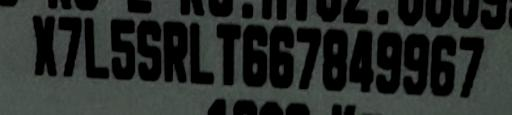letter: (456, 34, 488, 101), (347, 27, 377, 94), (159, 20, 189, 85), (267, 23, 297, 88), (187, 21, 217, 84), (213, 20, 241, 87), (374, 30, 402, 97), (82, 15, 110, 80), (109, 17, 137, 82), (135, 18, 163, 83), (240, 23, 268, 88), (295, 24, 323, 89), (321, 27, 349, 92), (402, 33, 430, 98), (56, 15, 82, 80), (430, 33, 456, 98), (30, 14, 56, 75)
